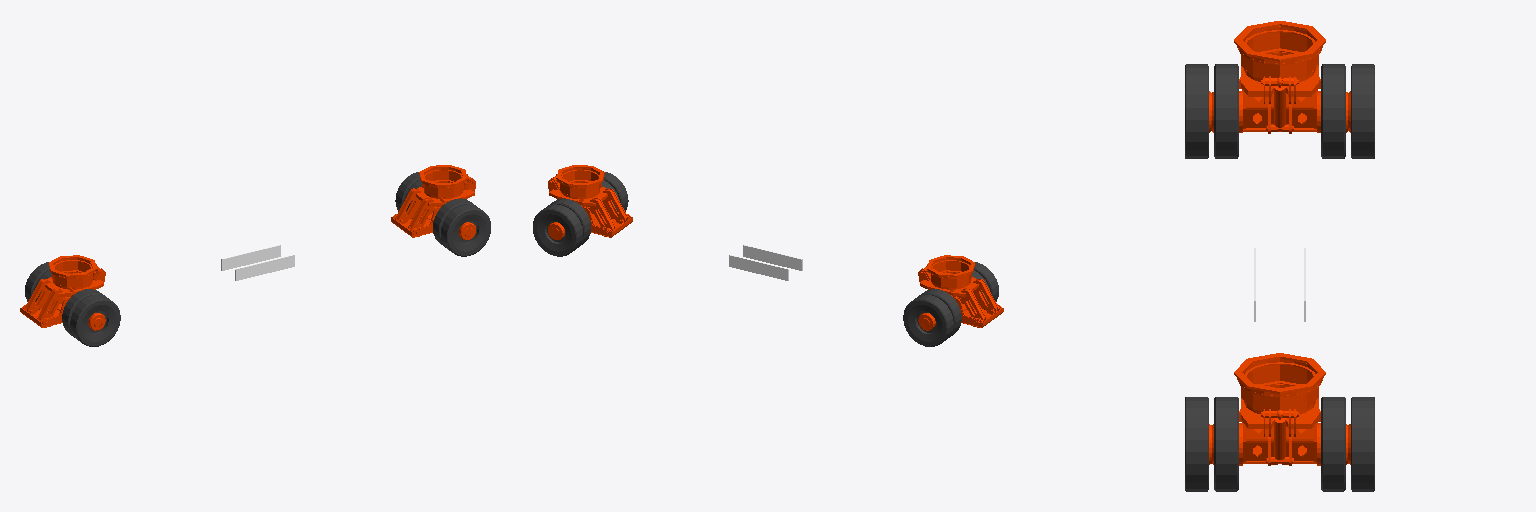
The robot description file, URDF, robot "AGV":
<?xml version='1.0'?>
<robot name="AGV">
  <link name="base_link">
    <visual>
      <origin xyz="0 0 0" rpy="0 0 1.5709" />
      <geometry>
        <mesh filename="package://data/meshes/agv_base.DAE" scale="0.5 0.5 0.5" />
      </geometry>
      <material name="white">
        <color rgba="1 0.29804 0.0 1" />
      </material>
    </visual>
  </link>

  <!--front axle-->
  <link name="front_axle">
    <visual>
      <origin xyz="0 0 0" rpy="0 0 1.5709" />
      <geometry>
        <mesh filename="package://data/meshes/agv_axle.DAE" scale="0.5 0.5 0.5" />
      </geometry>
      <material name="">
        <color rgba="1 0.29804 0.0 1" />
      </material> 
    </visual>
  </link>
  <joint name="base_to_front_axle_steering_shaft" type="continuous">
    <origin rpy="0  0  0" xyz="2.5  0 0.35"/>
    <parent link="base_link"/>
    <child link="front_axle"/>    
    <axis xyz="0 0 1"/>
  </joint>
    <!--    front wheel                        -->
    <link name="front_wheel">
    <visual>
      <origin xyz="0 0 0" rpy="0 0 1.5709" />
      <geometry>
        <mesh filename="package://data/meshes/agv_wheel.DAE" scale="0.5 0.5 0.5"/>
      </geometry>
      <material name="">
        <color rgba="0.29804 0.29804 0.29804 1" />
      </material>
    </visual>
  </link>
  <joint name="front_axle_to_front_wheel" type="fixed">
    <origin xyz="0 0.0 0.0" rpy="0 0 0" />
    <parent link="front_axle" />
    <child link="front_wheel" />
    <axis xyz="0 1 0" />
  </joint>

    <!--back axle-->
  <link name="back_axle">
    <visual>
      <origin xyz="0 0 0" rpy="0 0 1.5709" />
      <geometry>
        <mesh filename="package://data/meshes/agv_axle.DAE" scale="0.5 0.5 0.5" />
      </geometry>
      <material name="">
        <color rgba="1 0.29804 0.0 1" />
      </material> 
    </visual>
  </link>
  <joint name="base_to_back_axle_steering_shaft" type="fixed">
    <origin rpy="0  0  0" xyz="-2.5  0  0.35"/>
    <parent link="base_link"/>
    <child link="back_axle"/>    
    <axis xyz="0 0 1"/>
  </joint>
    <!--    back wheel                        -->
    <link name="back_wheel">
    <visual>
      <origin xyz="0 0 0" rpy="0 0 1.5709" />
      <geometry>
        <mesh filename="package://data/meshes/agv_wheel.DAE" scale="0.5 0.5 0.5"/>
      </geometry>
      <material name="">
        <color rgba="0.29804 0.29804 0.29804 1" />
      </material>
    </visual>
  </link>
  <joint name="back_axle_to_back_wheel" type="fixed">
    <origin xyz="0 0.0 0.0" rpy="0 0 0" />
    <parent link="back_axle" />
    <child link="back_wheel" />
    <axis xyz="0 1 0" />
  </joint>

      <link name="logo_link">
    <visual>
      <geometry>
        <box size="0.8 0.15 0.01"/>
      </geometry>
      <material name="">
         <color rgba="1 1 1 .5"/>
         <texture filename="package://data/meshes/superg-ai.jpg"/>
    </material>
    </visual>
  </link>
  <joint name="base_to_logo_link" type="fixed">
    <origin xyz="0  0.16  0.3" rpy="-1.57075  0  0"/>
    <parent link="base_link"/>
    <child link="logo_link"/>
  </joint>

    <link name="logo_link2">
    <visual>
      <geometry>
        <box size="0.8 0.15 0.01"/>
      </geometry>
      <material name="">
         <color rgba="1 1 1 .5"/>
         <texture filename="package://data/meshes/superg-ai.jpg"/>
    </material>
    </visual>
  </link>
  <joint name="base_to_logo_link2" type="fixed">
    <origin xyz="0  -0.16 0.3" rpy="1.57075  3.14  0"/>
    <parent link="base_link"/>
    <child link="logo_link2"/>
  </joint>
</robot>

--- Facts derived from the render (not from the file) ---
The picture shows the robot from 3 angles, left to right: view 1: azimuth 30°, elevation 25°; view 2: azimuth 150°, elevation 25°; view 3: azimuth 270°, elevation 25°; orthographic projection.
Robot: AGV — 7 links, 6 joints (1 continuous, 5 fixed); root link base_link; default pose: all joints at 0.
Visible links, largest first — view 1: front_axle, back_axle, back_wheel, front_wheel, logo_link2, logo_link; view 2: front_axle, back_axle, back_wheel, front_wheel, logo_link2, logo_link; view 3: front_wheel, back_wheel, back_axle, front_axle.
Link boxes in pixels (left/top/right/bottom): front_axle: left=391, top=165, right=475, bottom=239; back_axle: left=20, top=255, right=105, bottom=330; back_wheel: left=25, top=262, right=120, bottom=346; front_wheel: left=395, top=172, right=490, bottom=256; logo_link2: left=235, top=255, right=294, bottom=280; logo_link: left=221, top=245, right=280, bottom=270; front_axle: left=548, top=165, right=632, bottom=239; back_axle: left=918, top=255, right=1003, bottom=330; back_wheel: left=903, top=262, right=998, bottom=346; front_wheel: left=533, top=171, right=628, bottom=256; logo_link2: left=743, top=245, right=802, bottom=270; logo_link: left=729, top=255, right=788, bottom=280; front_wheel: left=1185, top=397, right=1374, bottom=491; back_wheel: left=1185, top=64, right=1374, bottom=158; back_axle: left=1209, top=21, right=1350, bottom=133; front_axle: left=1209, top=353, right=1350, bottom=465.
Bounding box of the posed robot: 5.95 × 1.21 × 0.8056 m (x, y, z).
Meshes: 3 distinct files referenced, 4 mesh visuals loaded (2 Collada DAE); not drawn: 1 (reference not matched to a file when rendering).